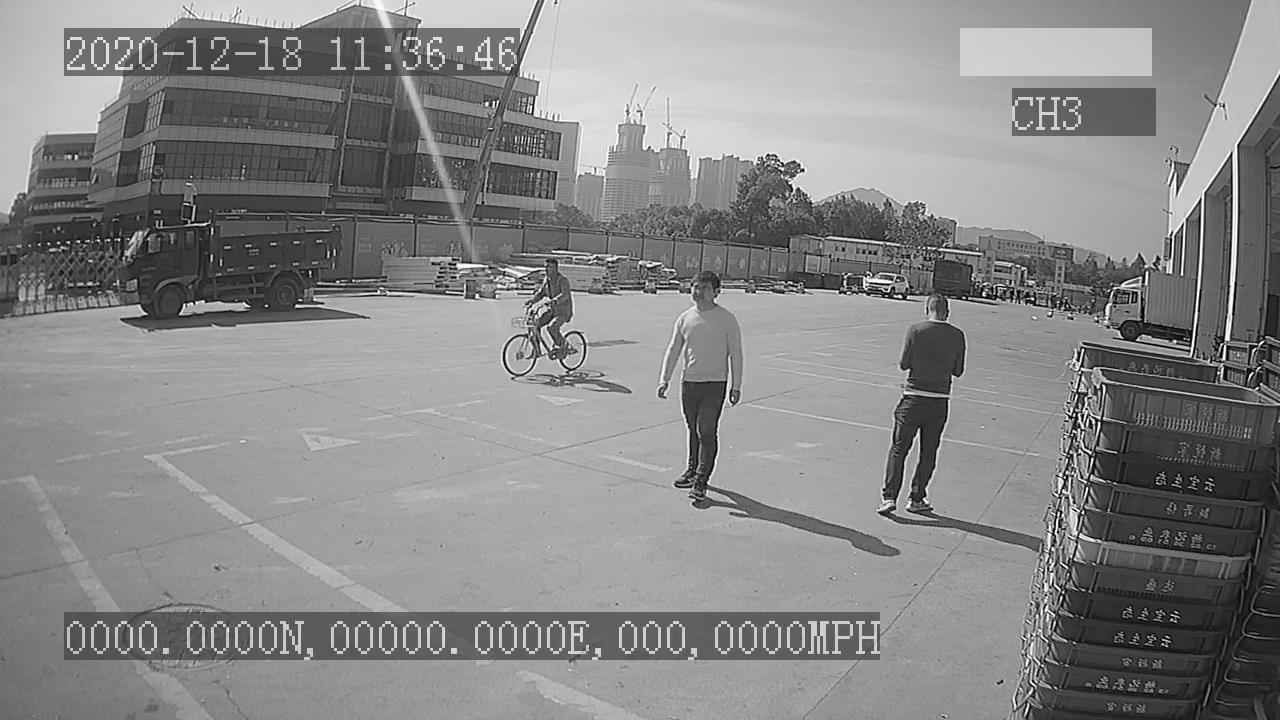person: (651, 270, 750, 507), (872, 289, 971, 523)
